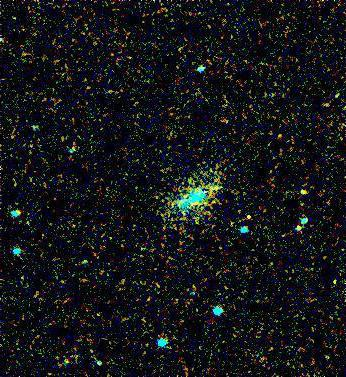star: (286, 181, 316, 211)
